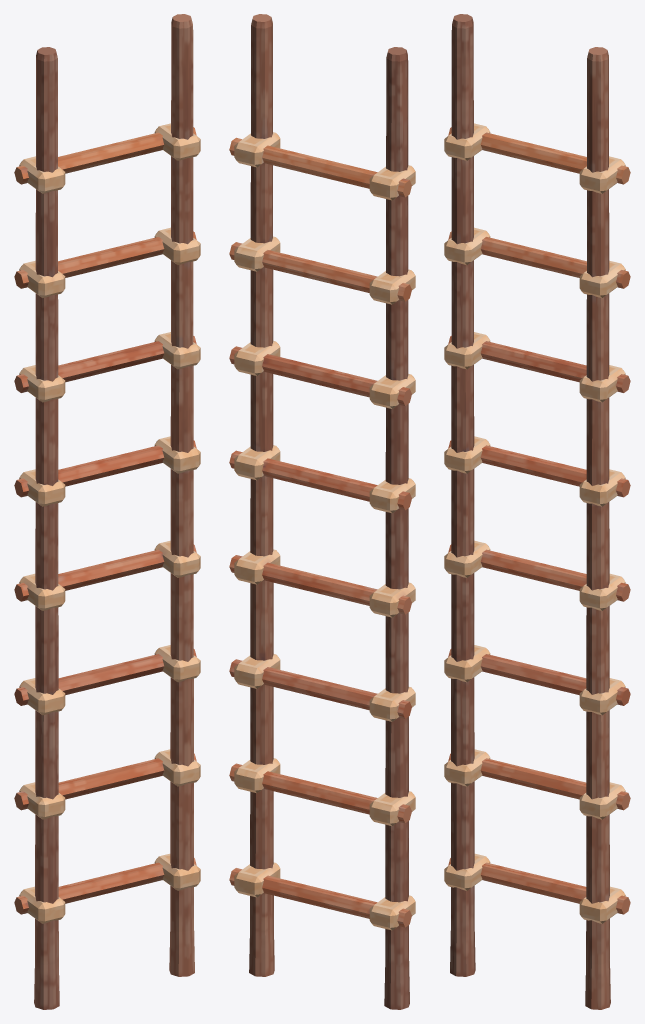
File: ladder.fbx
The picture shows the model from 3 angles, left to right: view 1: azimuth 30°, elevation 25°; view 2: azimuth 150°, elevation 25°; view 3: azimuth 330°, elevation 25°; orthographic projection.
Parts seen in each view (by area): view 1: ladder; view 2: ladder; view 3: ladder.
Part boxes in pixels (box(x1,y1,x2,y2)): ladder: box(14, 14, 200, 1009); ladder: box(229, 14, 415, 1009); ladder: box(444, 14, 630, 1009).
Size of the model in its own units: 2.44 by 12.8 by 0.58.
Materials: 1 (1 with a texture image).
